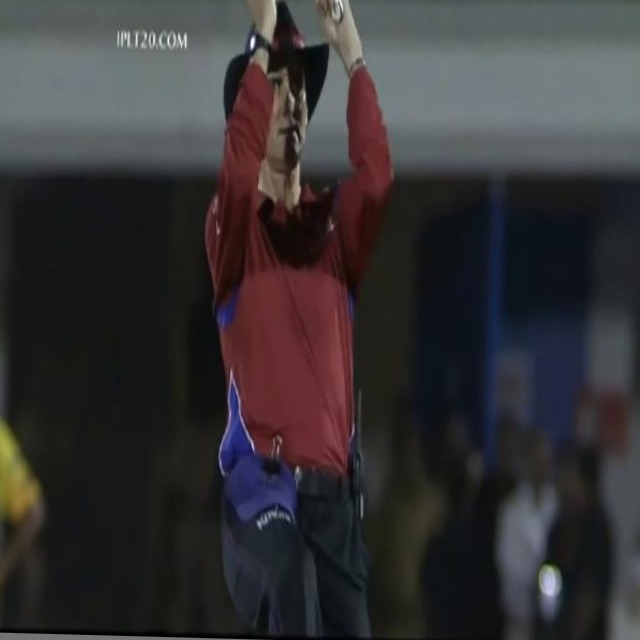Six: (186, 0, 418, 640)
